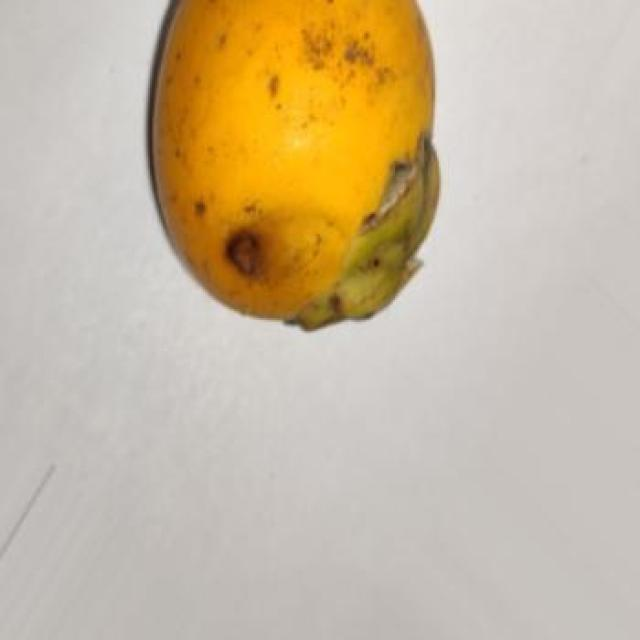good: (146, 0, 443, 335)
